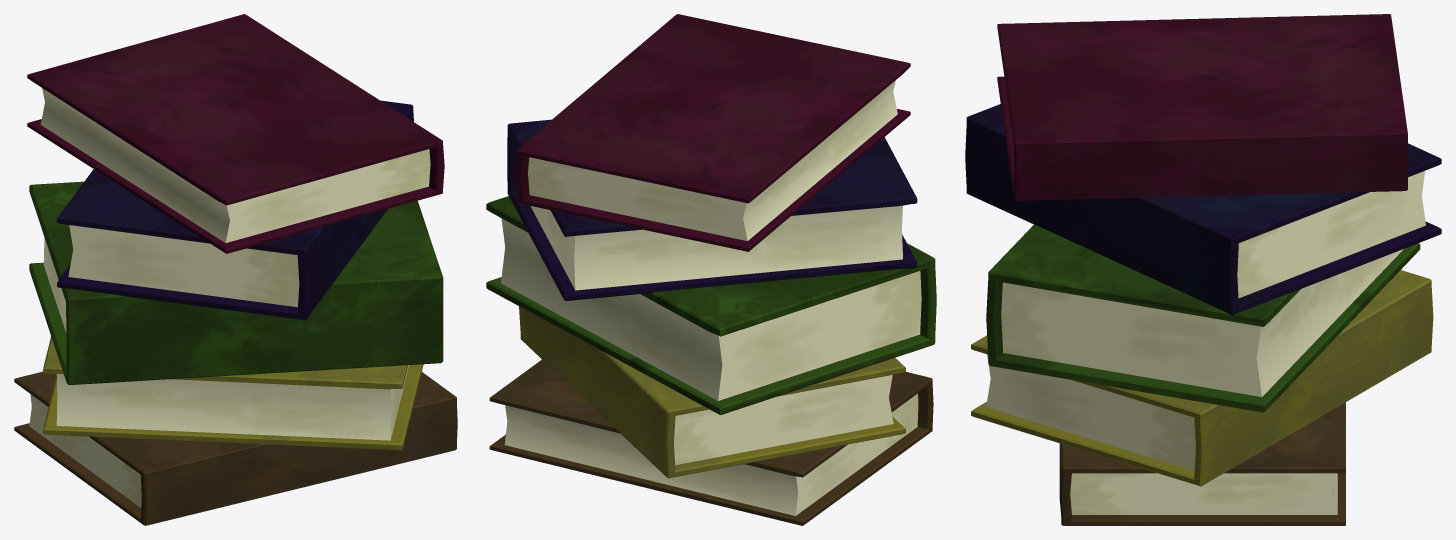
File: Prop_BookStack_01.fbx
3 renders of one model, left to right at view 1: azimuth 30°, elevation 25°; view 2: azimuth 150°, elevation 25°; view 3: azimuth 270°, elevation 25°, orthographic. The views are drawn at different scales.
Visible parts, largest first — view 1: Prop_BookStack_01; view 2: Prop_BookStack_01; view 3: Prop_BookStack_01.
Boxes of the visible parts, box(x1,y1,x2,y2) form: Prop_BookStack_01: box(14, 14, 457, 525); Prop_BookStack_01: box(486, 14, 936, 525); Prop_BookStack_01: box(965, 14, 1441, 525).
Size of the model in its own units: 30.36 by 24.64 by 29.16.
5 materials, 5 textured.
